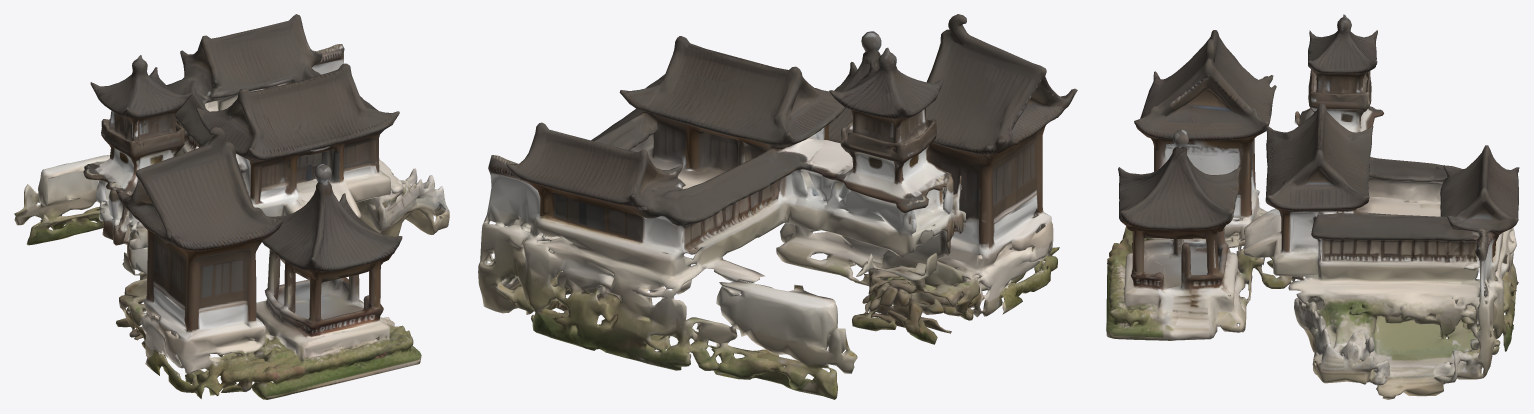
3 views of the same model, side by side, from view 1: azimuth 30°, elevation 25°; view 2: azimuth 150°, elevation 25°; view 3: azimuth 270°, elevation 25° (orthographic). The views are drawn at different scales.
Visible parts, largest first — view 1: material.001; view 2: material.001; view 3: material.001.
Part boxes in pixels (bbox=[...]): material.001: bbox=[14, 14, 449, 399]; material.001: bbox=[478, 14, 1077, 399]; material.001: bbox=[1106, 14, 1519, 399].
Bounding box in the file's own units: 0.8599 × 0.5775 × 0.8586.
Materials: 1 (1 with a texture image).
